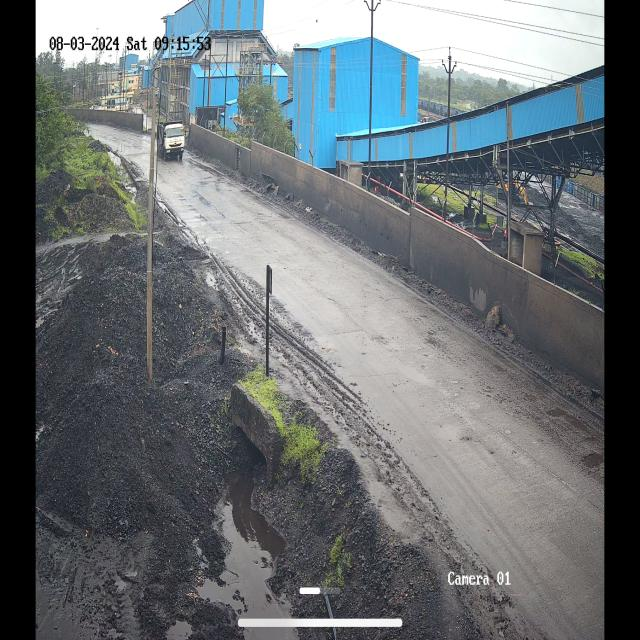dump_truck: (161, 117, 186, 160)
